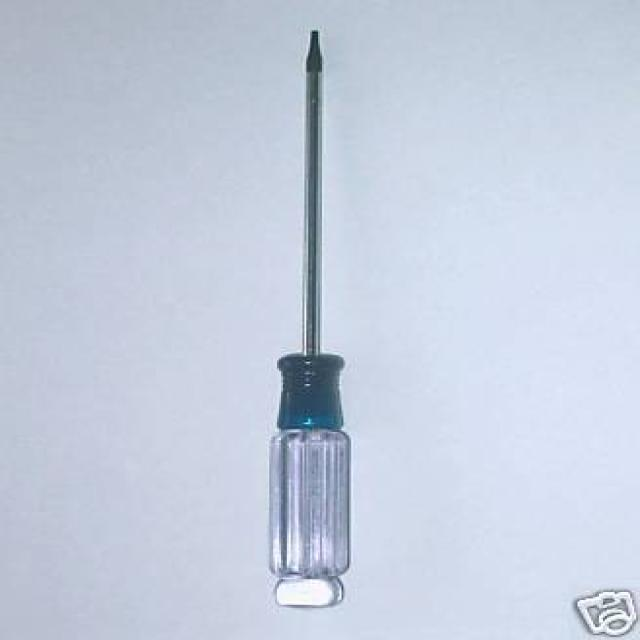screw driver: (264, 18, 391, 620)
